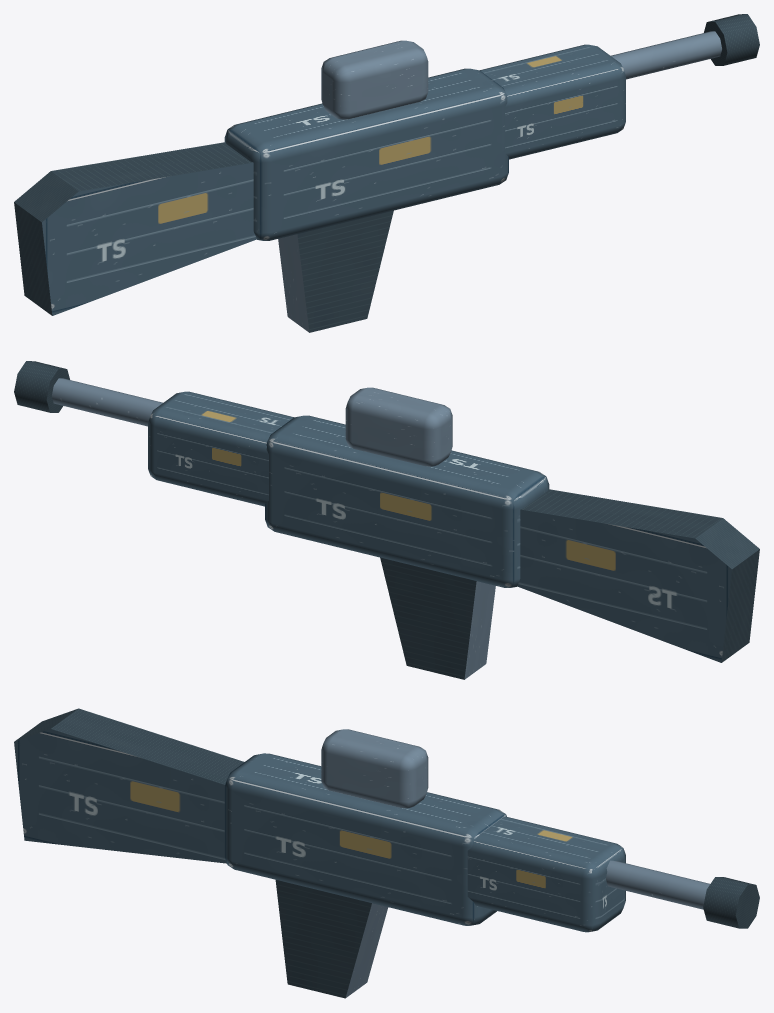
File: SM_DisplayRifle.glb
3 renders of one model, top to bottom at view 1: azimuth 30°, elevation 25°; view 2: azimuth 150°, elevation 25°; view 3: azimuth 330°, elevation 25°, orthographic.
Visible parts, largest first — view 1: SM_DisplayRifle; view 2: SM_DisplayRifle; view 3: SM_DisplayRifle.
Boxes of the visible parts, x1,y1,x2,y2 form: SM_DisplayRifle: [14, 14, 759, 332]; SM_DisplayRifle: [14, 361, 759, 679]; SM_DisplayRifle: [14, 708, 759, 998].
Bounding box in the file's own units: 1.37 × 0.461 × 0.13.
1 material, 1 textured.
